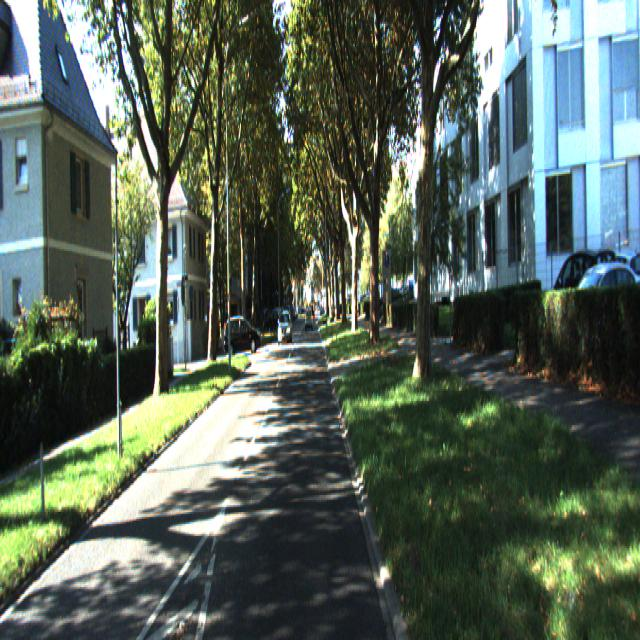Car: (224, 316, 261, 358), (277, 311, 292, 344)
